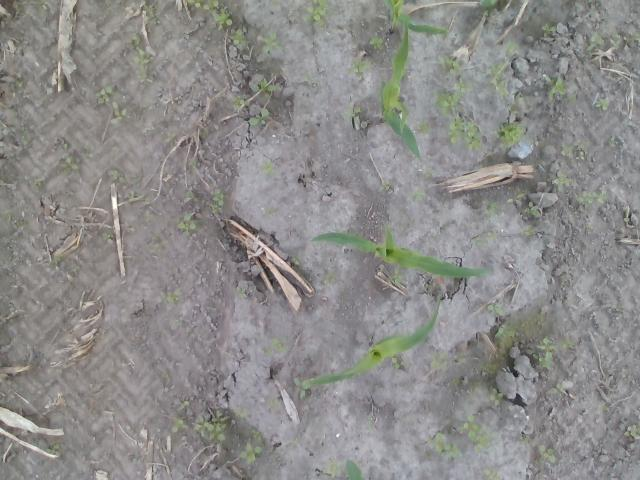Maize: (300, 298, 442, 388), (309, 223, 493, 280), (378, 19, 424, 162), (384, 0, 448, 35), (342, 458, 363, 480)
Weeds: (431, 89, 485, 153), (423, 415, 495, 459), (172, 408, 228, 442), (443, 55, 478, 93), (96, 84, 128, 120), (130, 32, 152, 84), (238, 428, 264, 466), (544, 74, 576, 104), (489, 61, 512, 96), (494, 122, 526, 145), (537, 333, 557, 369), (304, 0, 329, 28), (606, 30, 640, 49), (573, 190, 609, 206), (248, 108, 274, 130), (258, 31, 280, 56), (248, 76, 279, 93), (175, 211, 200, 232), (0, 207, 29, 225), (293, 376, 311, 402), (228, 27, 252, 46), (560, 143, 586, 160), (182, 0, 220, 11), (212, 10, 231, 32), (537, 444, 556, 465), (586, 31, 604, 53), (260, 338, 288, 352), (476, 230, 497, 248), (61, 154, 79, 175), (341, 104, 365, 119), (430, 352, 450, 370), (477, 0, 496, 18), (210, 190, 223, 216), (552, 174, 570, 192), (161, 287, 180, 304), (350, 59, 370, 74), (489, 388, 504, 408), (504, 38, 520, 56), (110, 168, 126, 185), (494, 324, 514, 337), (48, 254, 64, 270), (482, 468, 503, 480), (324, 463, 340, 478), (368, 36, 384, 50), (559, 336, 575, 350), (624, 424, 640, 438), (488, 303, 506, 315), (510, 96, 522, 114), (82, 144, 95, 160), (176, 398, 191, 411), (486, 200, 498, 216), (594, 98, 610, 110), (162, 134, 178, 146), (388, 269, 402, 282), (520, 226, 538, 236), (607, 134, 622, 146), (18, 126, 28, 144), (322, 270, 337, 282), (232, 407, 248, 418), (232, 96, 245, 109), (416, 122, 430, 134), (266, 398, 280, 410), (408, 191, 426, 200), (366, 414, 374, 433), (236, 286, 248, 298), (46, 444, 60, 454), (262, 162, 272, 175), (14, 80, 26, 90), (34, 176, 44, 188), (40, 0, 50, 11), (541, 23, 554, 31), (103, 232, 114, 241), (514, 190, 526, 198), (527, 207, 537, 216), (422, 168, 431, 178), (292, 255, 300, 266), (383, 180, 390, 192), (303, 71, 312, 80), (392, 360, 401, 369), (183, 190, 193, 198), (520, 436, 530, 444), (598, 404, 608, 412), (72, 264, 80, 273), (556, 382, 563, 390), (62, 144, 69, 150)
